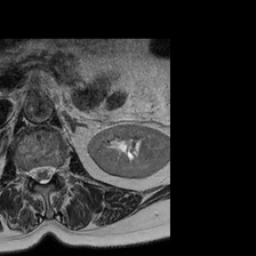CCS_normal: (38, 154, 46, 191)
LFS_normal: (54, 154, 62, 184)
LLS_normal: (46, 156, 54, 183)
RFS_stenosis: (22, 159, 29, 188)
RLS_normal: (29, 157, 38, 186)
